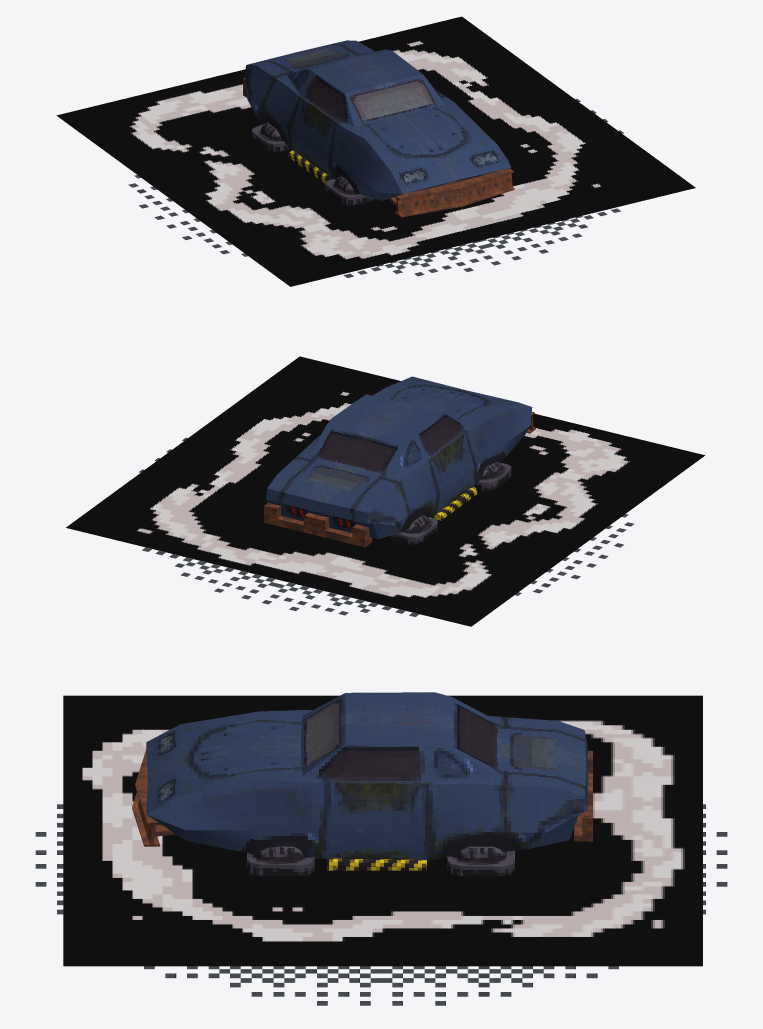
Rendered from Car.glb.
3 renders of one model, top to bottom at view 1: azimuth 30°, elevation 25°; view 2: azimuth 150°, elevation 25°; view 3: azimuth 270°, elevation 25°, orthographic. The views are drawn at different scales.
Parts seen in each view (by area): view 1: Plane.003, Cube, Object_421; view 2: Plane.003, Cube, Object_421; view 3: Plane.003, Cube, Object_421.
Boxes of the visible parts, box(x1,y1,x2,y2) form: Plane.003: box(56, 16, 695, 286); Cube: box(243, 40, 514, 217); Object_421: box(128, 99, 623, 277); Plane.003: box(66, 356, 704, 626); Cube: box(264, 376, 535, 547); Object_421: box(139, 438, 634, 616); Plane.003: box(63, 695, 702, 966); Cube: box(132, 692, 592, 876); Object_421: box(35, 804, 727, 1005).
Size of the model in its own units: 7.11 by 1.42 by 7.11.
4 materials, 4 textured.
